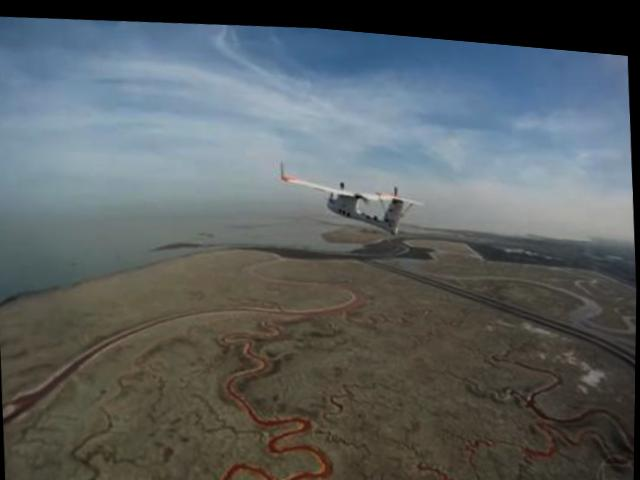uav: (275, 151, 429, 246)
